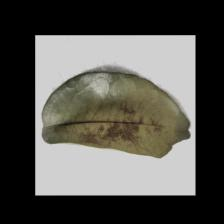canker: (61, 96, 166, 157)
